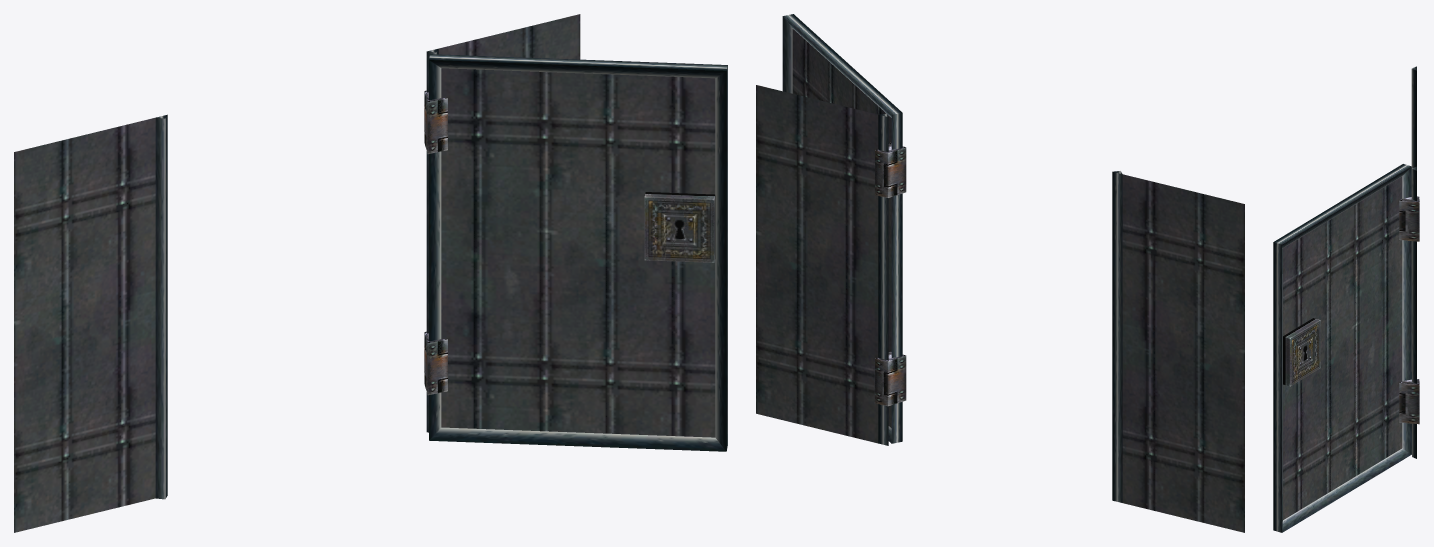
3 renders of one model, left to right at view 1: azimuth 30°, elevation 25°; view 2: azimuth 150°, elevation 25°; view 3: azimuth 270°, elevation 25°, orthographic. The views are drawn at different scales.
Parts seen in each view (by area): view 1: d_grid5; view 2: d_grid5; view 3: d_grid5.
Part boxes in pixels (x1,y1,x2,y2): d_grid5: (14,14,727,532); d_grid5: (756,14,1244,532); d_grid5: (1273,66,1419,532).
Bounding box in the file's own units: 3.09 × 1.8 × 0.8273.
Materials: 3 (3 with a texture image).
